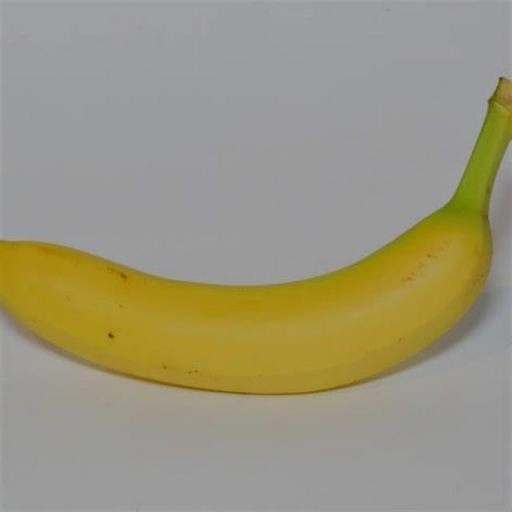fruit: (0, 79, 511, 393)
